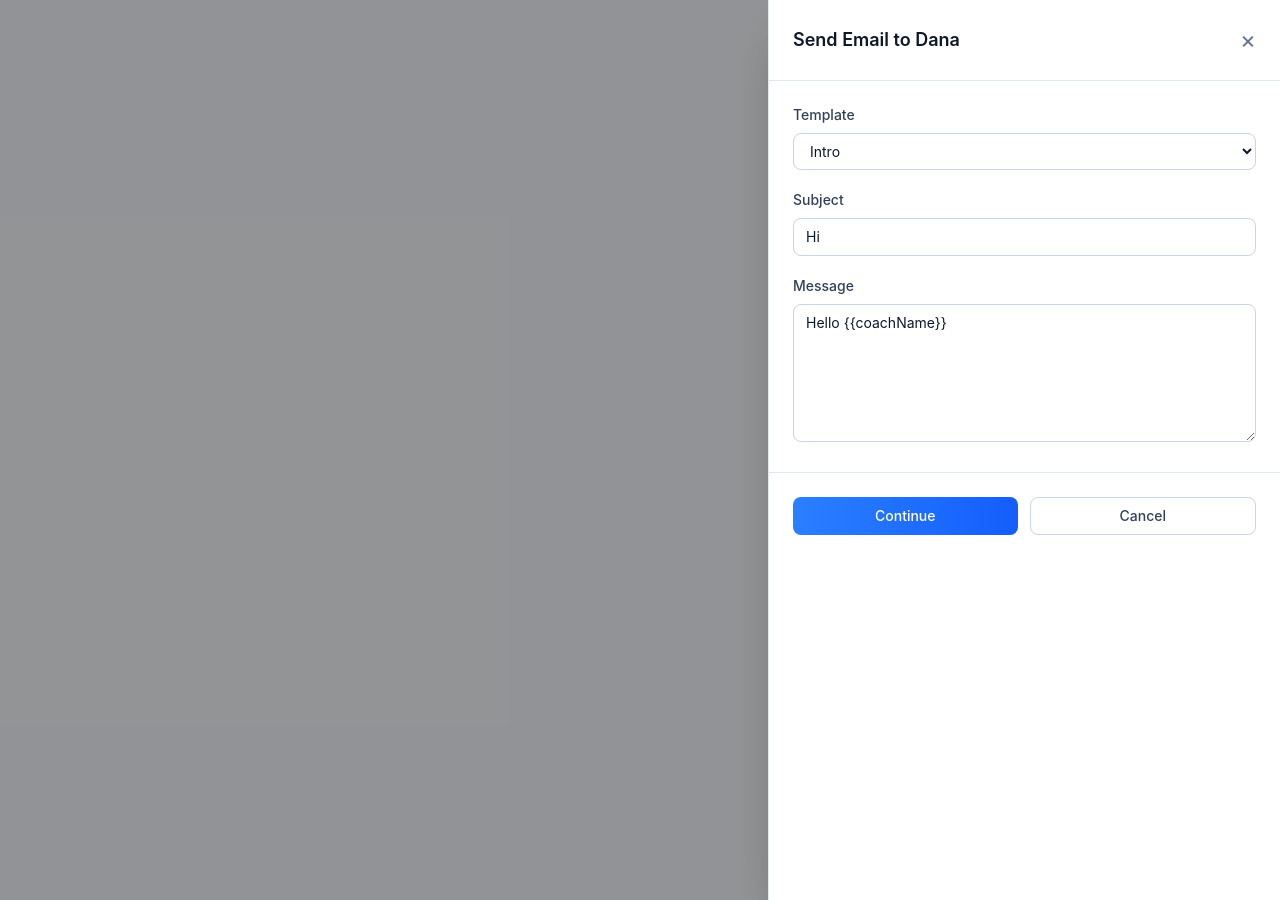
MessageComposer › disables Send in preview while required tokens remain unresolved
The image size is (1280, 900).
Click the button "Continue": (905, 516) [793, 497, 1018, 535]
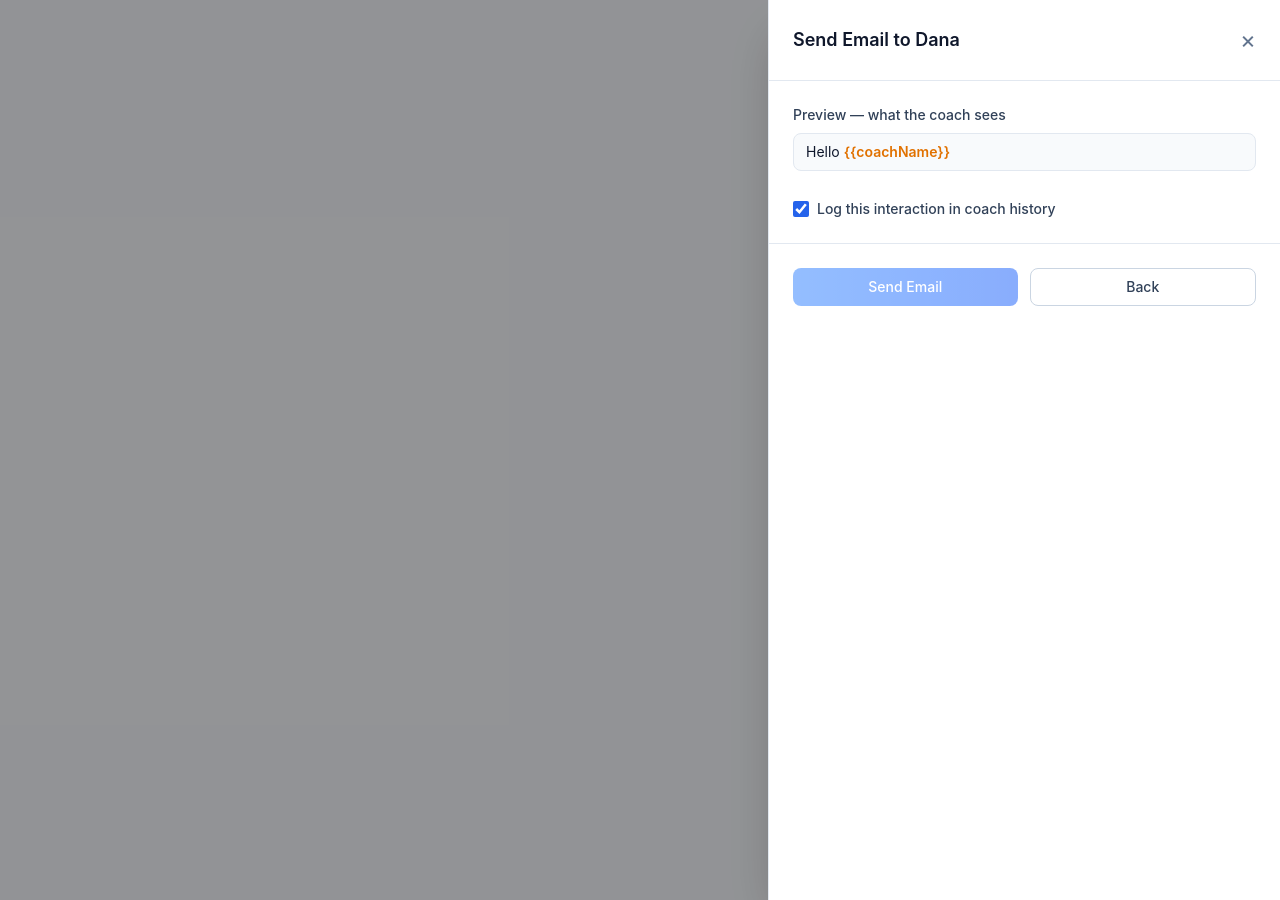
expect the button "Send Email" is disabled: met, box [793, 268, 1018, 306]
